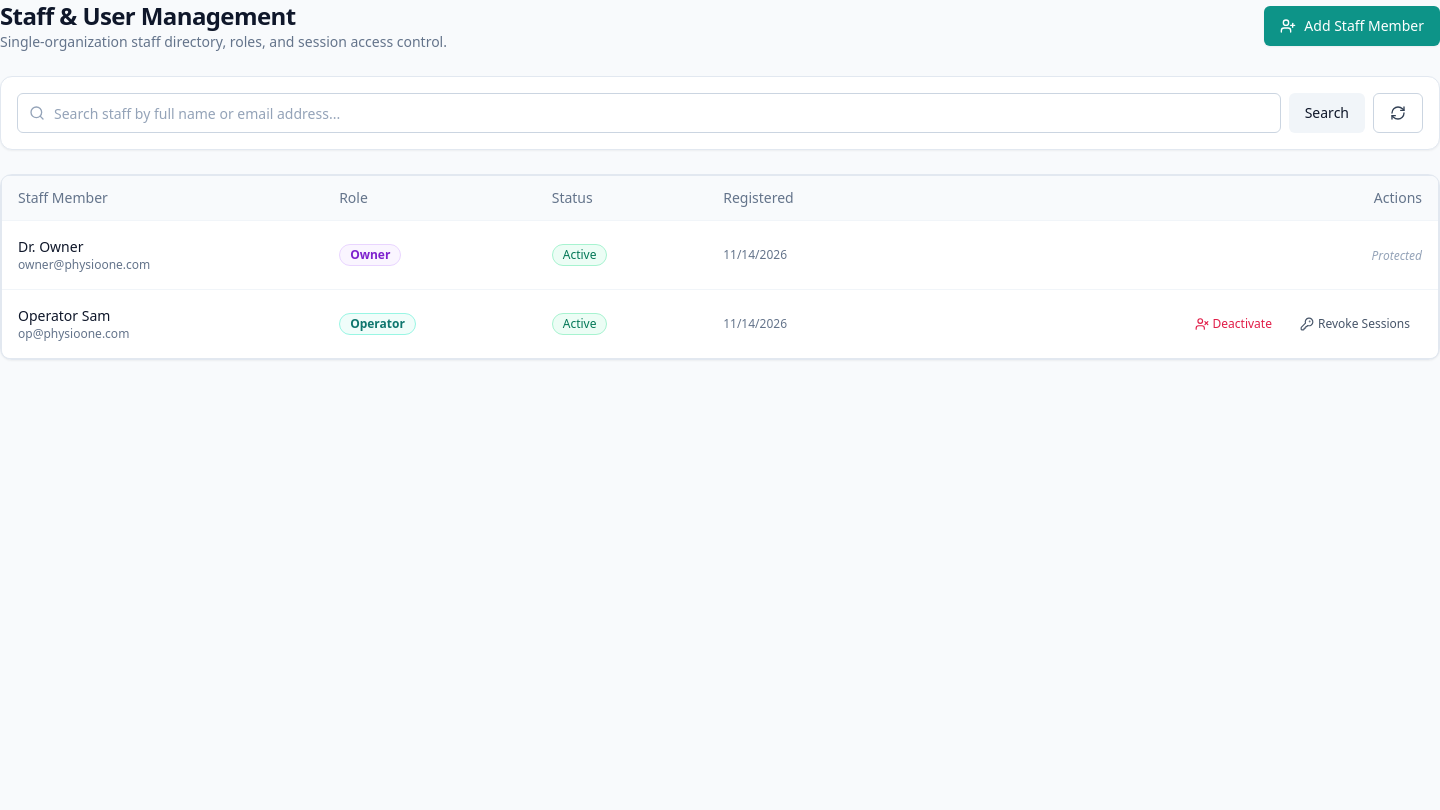
Test: UsersPage › disables Owner option in Add Staff dialog when created by Admin to prevent privilege escalation
The image size is (1440, 810).
What coordinates should you click on to do the following:
click the button "Add Staff Member"
I would click on:
 (1352, 26)
Its box is [1264,6,1439,46].
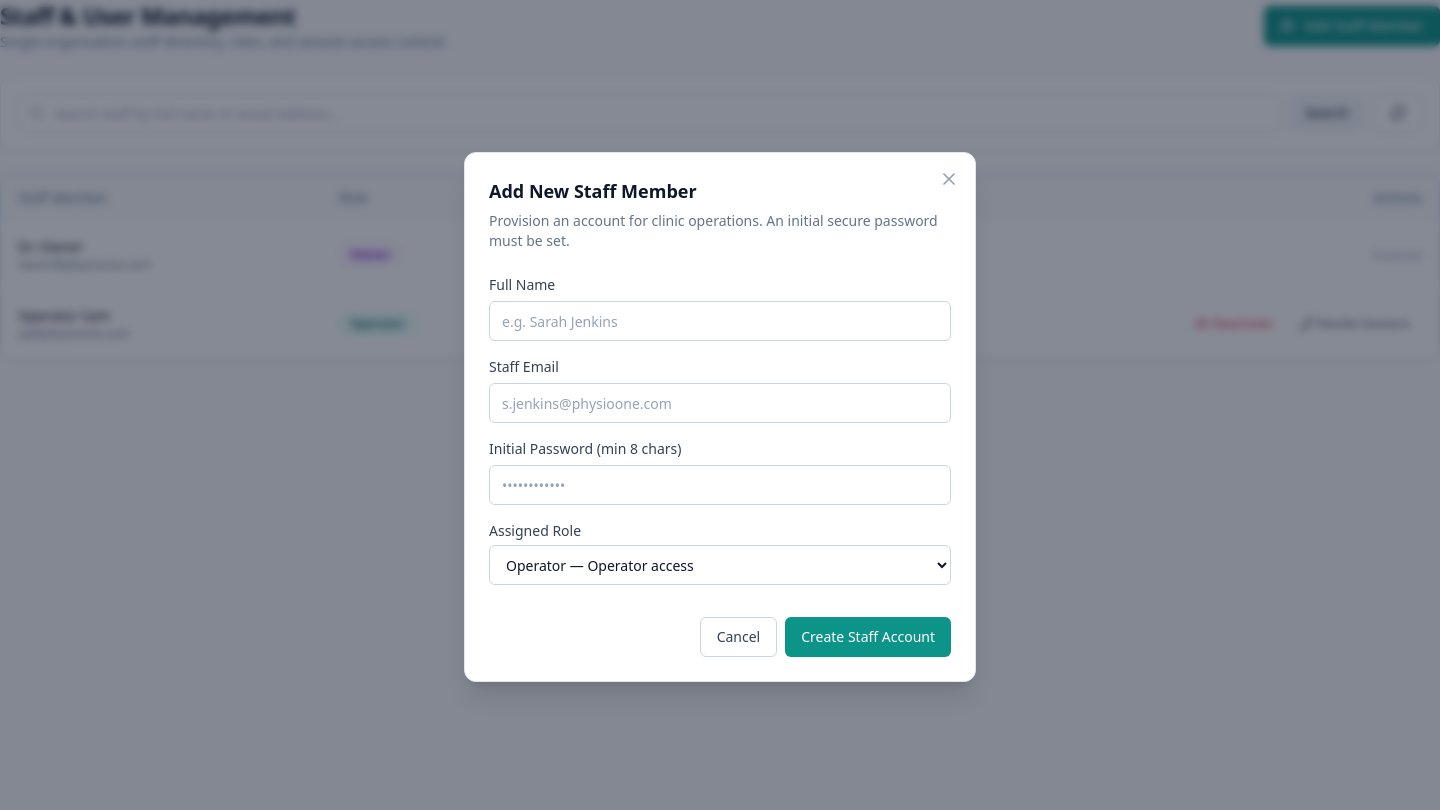
Result: the text "Provision an account for clinic operations. An initial secure password must be set." is shown at [489,211,938,250]
